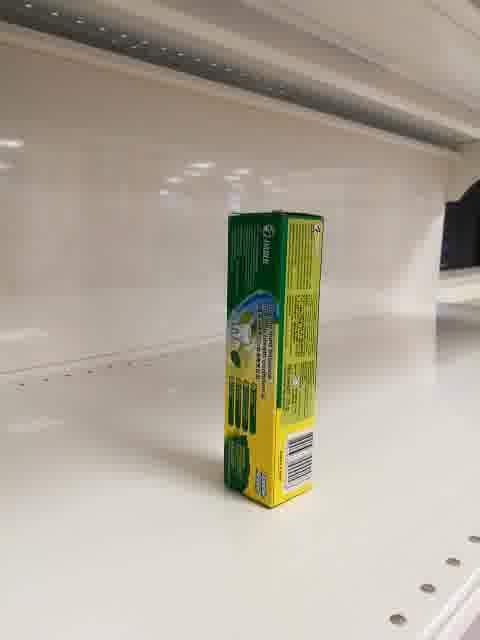toothpaste: (225, 210, 325, 510)
